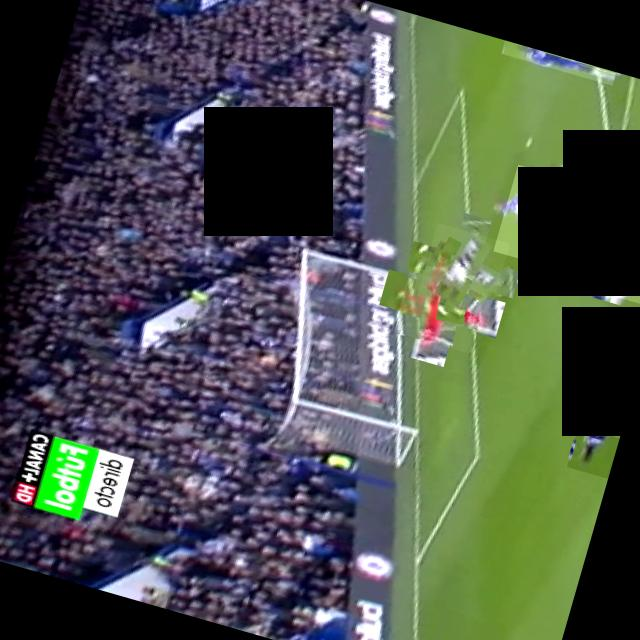goalkeeper: (391, 253, 491, 353)
soccer-player: (492, 164, 604, 276), (416, 222, 508, 316), (580, 217, 640, 306), (500, 40, 614, 85), (565, 426, 618, 478)
